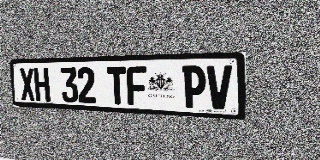2: (77, 67, 96, 104)
3: (60, 67, 78, 103)
F: (126, 66, 147, 106)
H: (33, 68, 50, 102)
P: (182, 66, 206, 109)
T: (107, 67, 127, 105)
V: (207, 65, 232, 110)
X: (19, 68, 35, 101)
